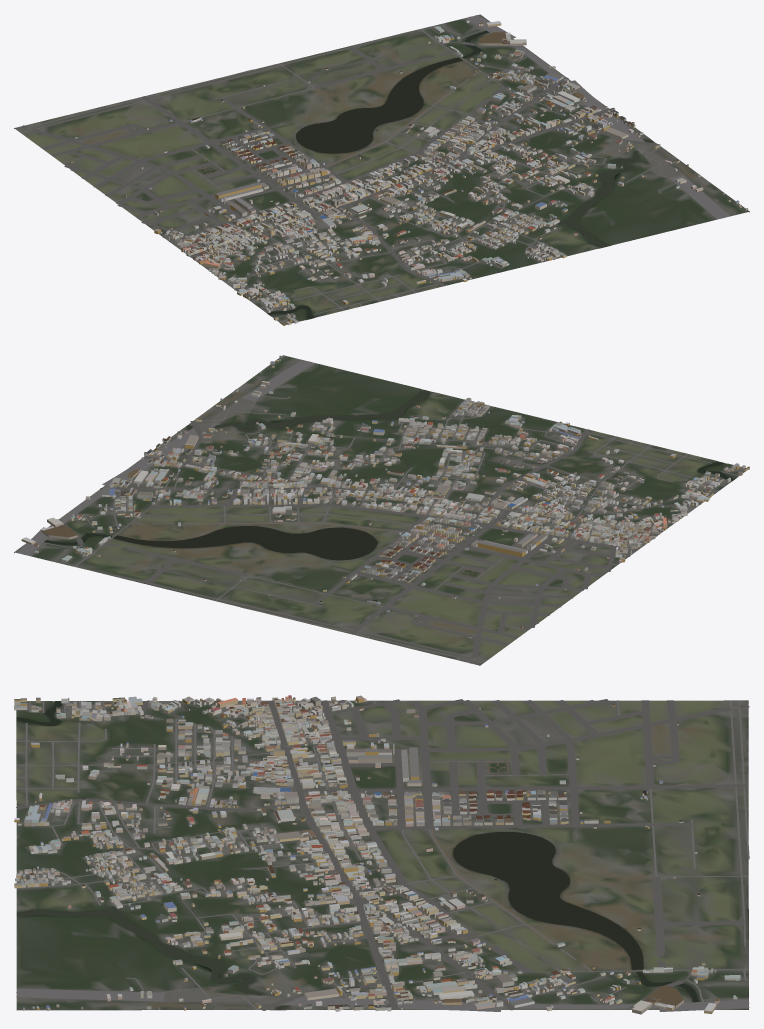
3 renders of one model, top to bottom at view 1: azimuth 30°, elevation 25°; view 2: azimuth 150°, elevation 25°; view 3: azimuth 270°, elevation 25°, orthographic. The views are drawn at different scales.
Parts seen in each view (by area): view 1: ground, buildings, roads, water; view 2: ground, buildings, roads, water; view 3: ground, buildings, roads, water.
Part boxes in pixels (box(x1,y1,x2,y2)): ground: box(14, 14, 749, 324); buildings: box(70, 20, 748, 325); roads: box(17, 15, 730, 321); water: box(267, 30, 653, 319); ground: box(14, 355, 749, 665); buildings: box(21, 355, 749, 638); roads: box(17, 360, 744, 663); water: box(44, 390, 734, 560); ground: box(16, 700, 748, 1010); buildings: box(14, 695, 740, 1014); roads: box(16, 699, 749, 1011); water: box(17, 701, 699, 1009).
Bounding box in the file's own units: 1427 × 22.83 × 1408.
